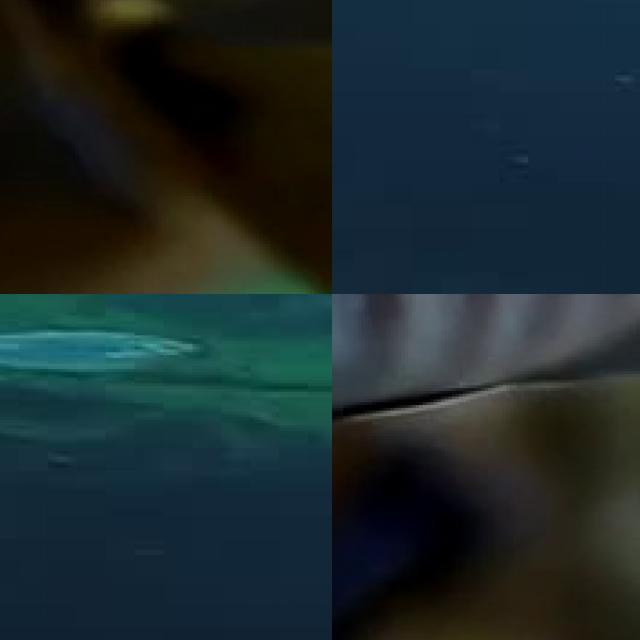fish: (0, 0, 332, 294), (332, 294, 640, 441)
